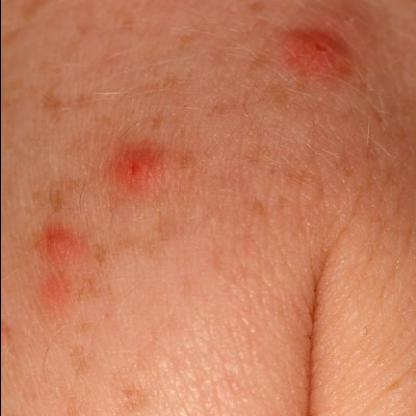Bed Bug: (265, 26, 358, 86), (30, 221, 83, 308), (100, 141, 170, 202)
